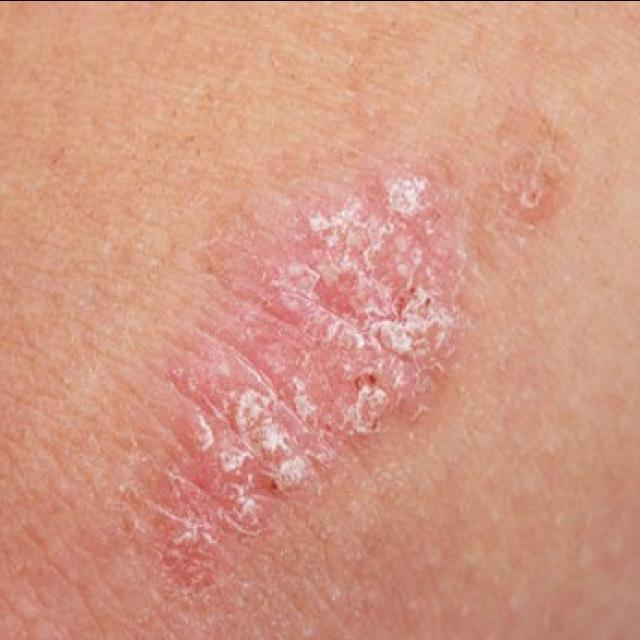Psoriasis: (111, 116, 572, 604)
